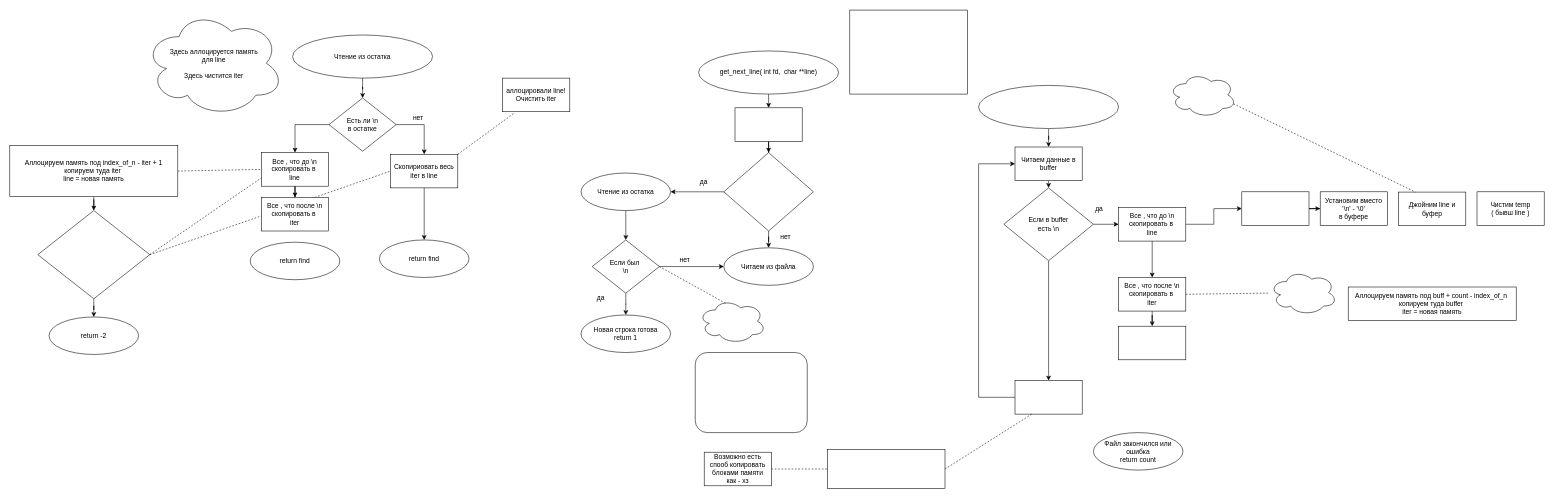
The diagram is 1554 pixels wide and 498 high, and some of its shapes have lost their labels. Each missing label, with the centre of its shape:
"char buffer[SIZE] char *iter" goes at (908,52).
"iter != NULL" goes at (768,191).
"retrun 1" goes at (1152,343).
"Аллоцируем память под count + 1 копируем туда buffer line = новая память" goes at (886,469).
"Аллоцируется память для iter" goes at (1303,292).
"Аллоцируется память для line" goes at (1202,94).
"Если была ошибка аллокации" goes at (93,254).
"Нулим переданный line функцией" goes at (768,124).
"Скопировать в line весь buffer" goes at (1048,397).
"Сохраним ссылку temp = *line" goes at (1275,208).
"Стоит не забывать про iter Делаем join ?" goes at (751,392).
"Чистится iter" goes at (732,321).
"Чтение из файла" goes at (1048,107).
